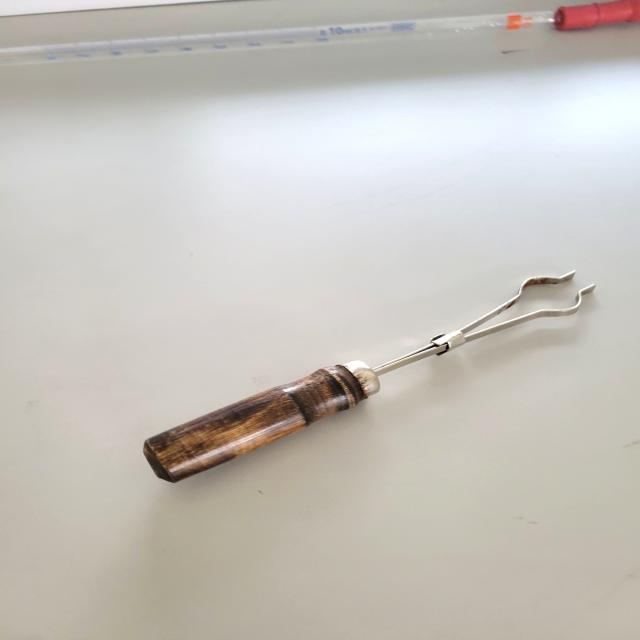TestTube_Holder: (107, 244, 603, 522)
